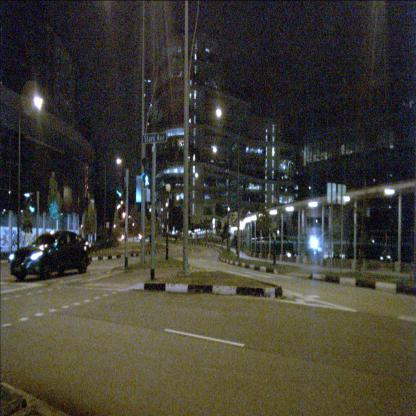vehicle-car: (10, 230, 92, 279), (122, 233, 126, 241)
